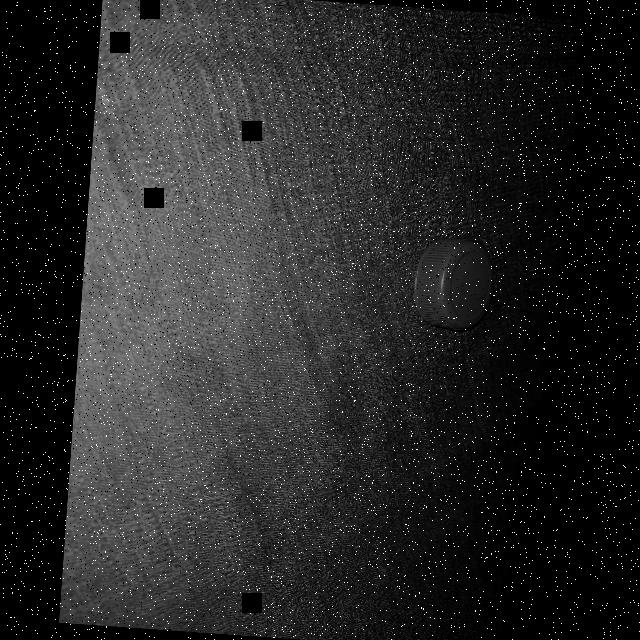plastic_bottle_cap: (410, 234, 498, 332)
